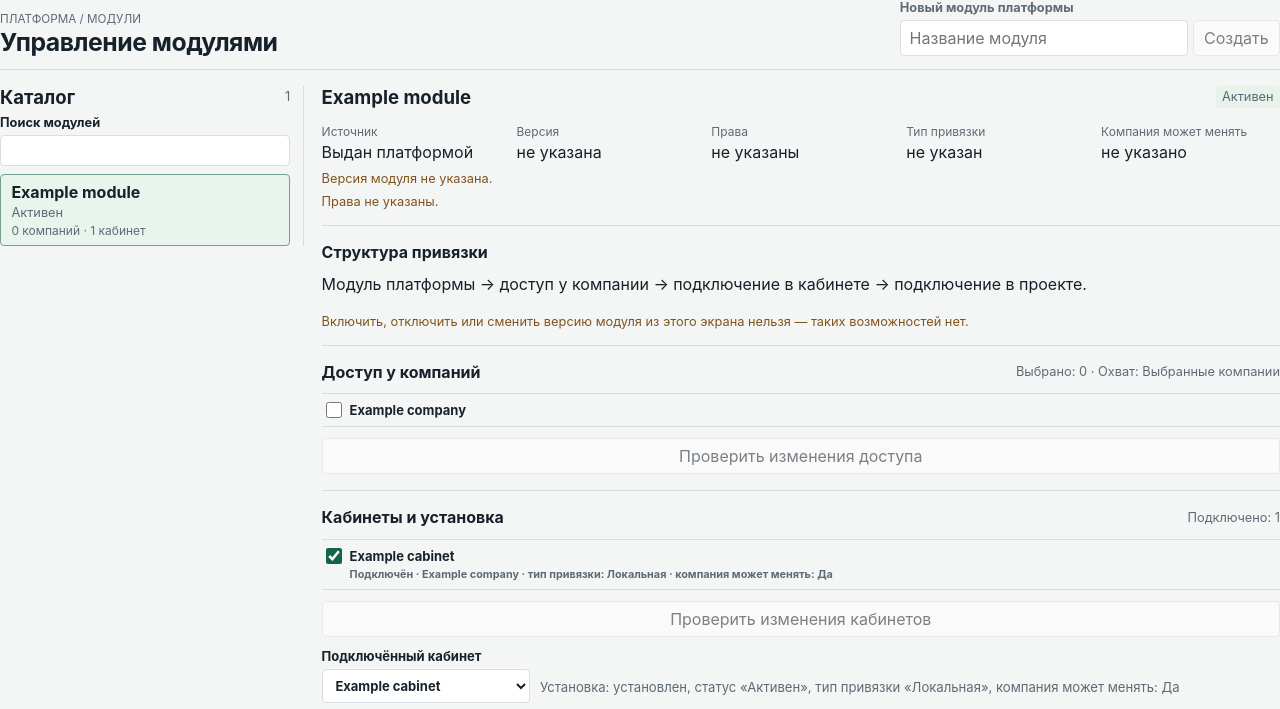
module binding owner workflow › keeps the confirmed change dialog open on API failure and offers retry
Later steps or results of the test are not shown.
Click the checkbox labelled "Example company". click: (334, 410)
box: x1=326 y1=402 x2=342 y2=418
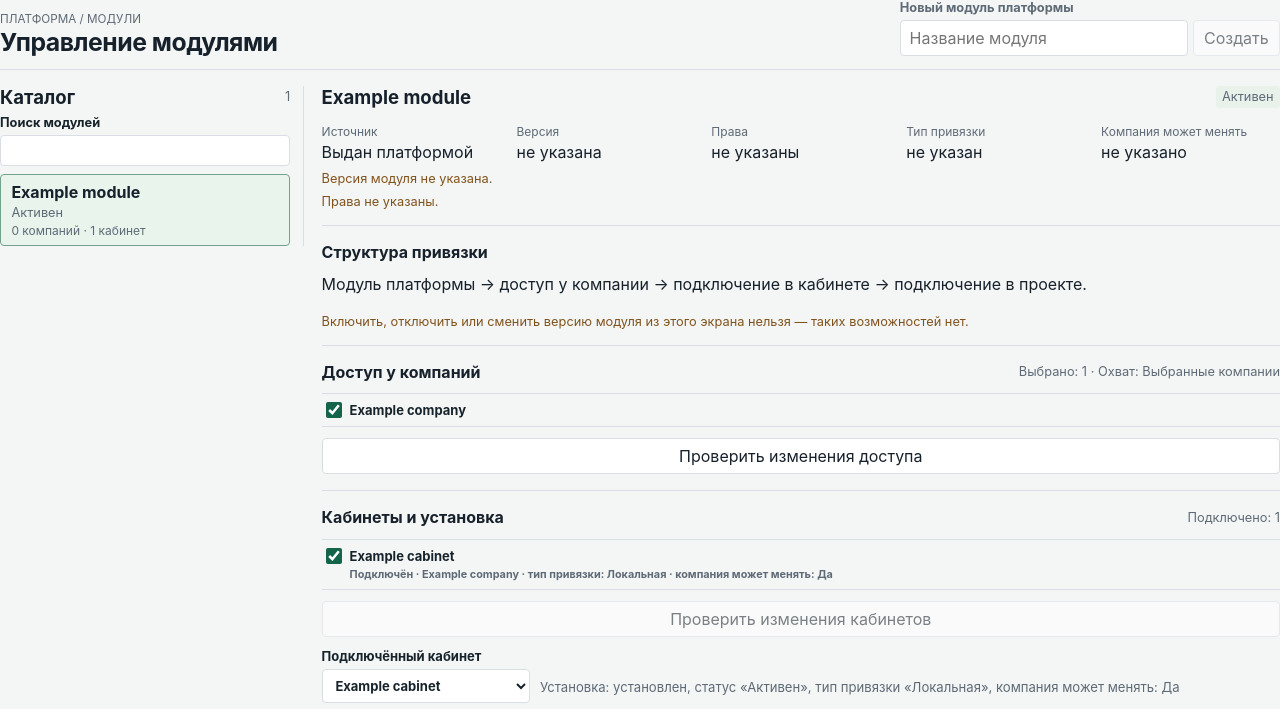
Click the button "Проверить изменения доступа". click: (801, 456)
box: x1=322 y1=438 x2=1279 y2=474
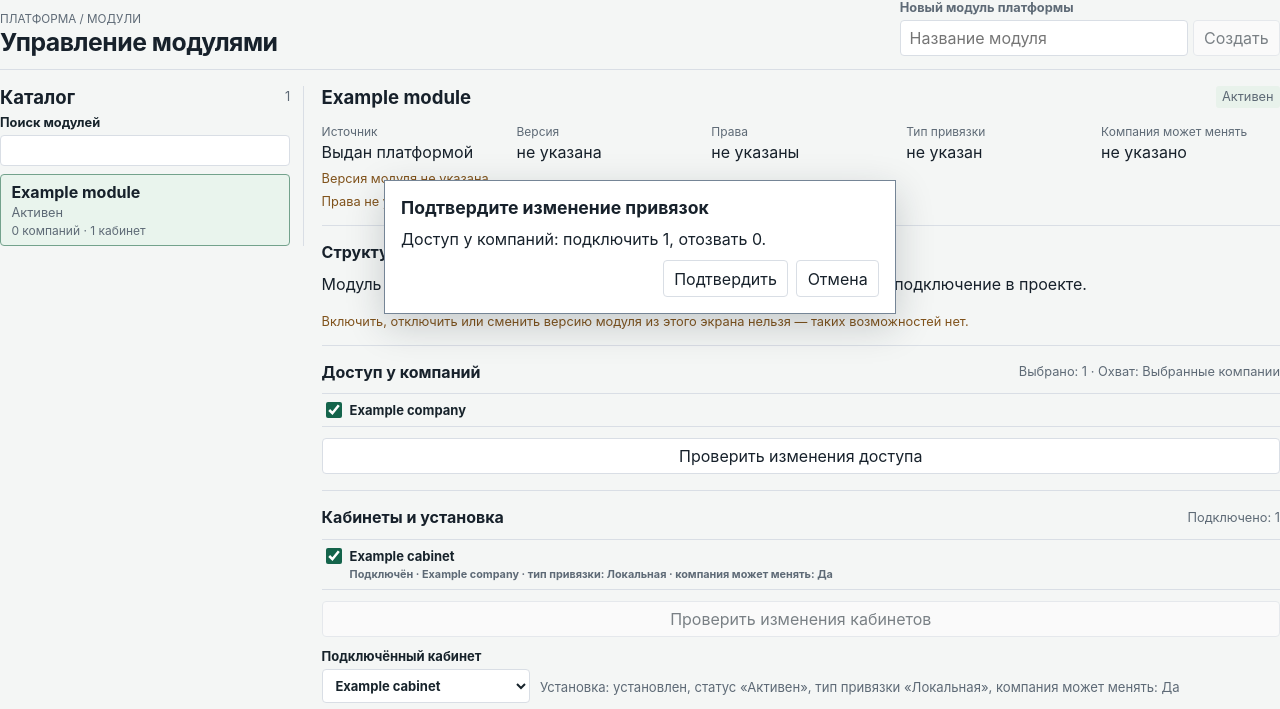
Click the button "Подтвердить". click: (726, 279)
box: x1=663 y1=260 x2=788 y2=297
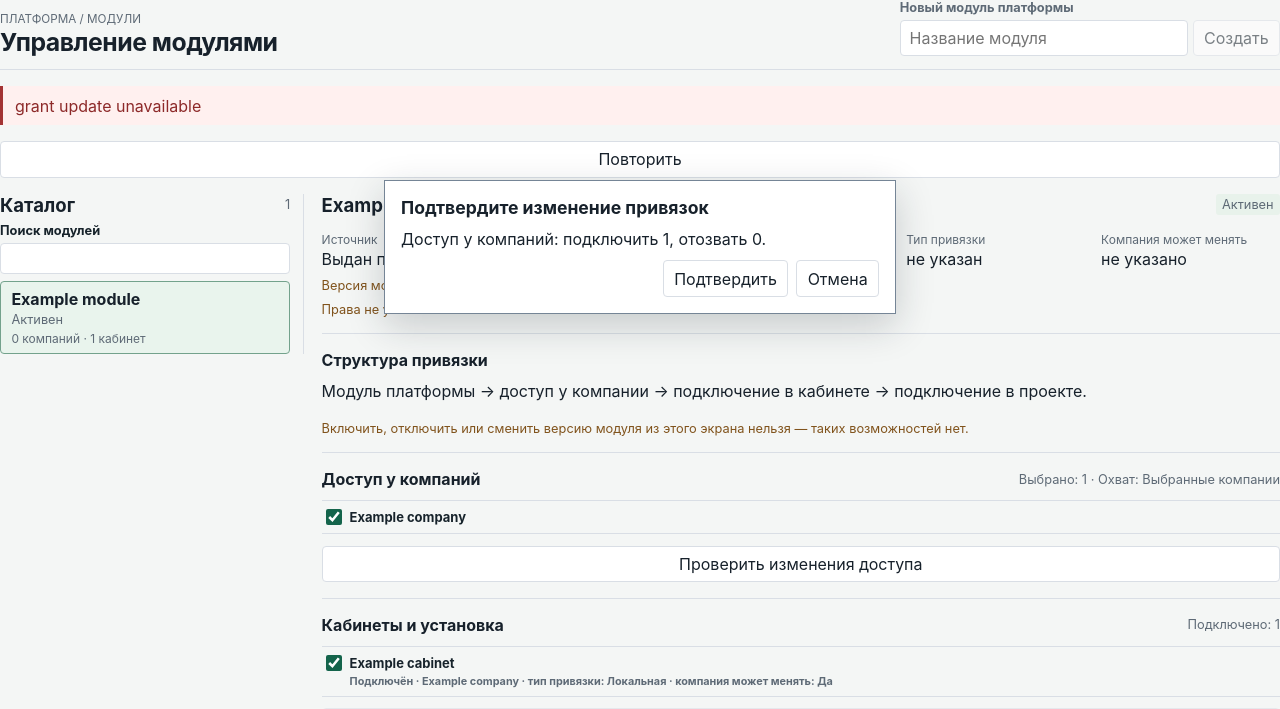
Now the dialog is shown, box x1=384 y1=180 x2=896 y2=314
Click the button "Повторить". click: (640, 159)
box: x1=0 y1=141 x2=1279 y2=178
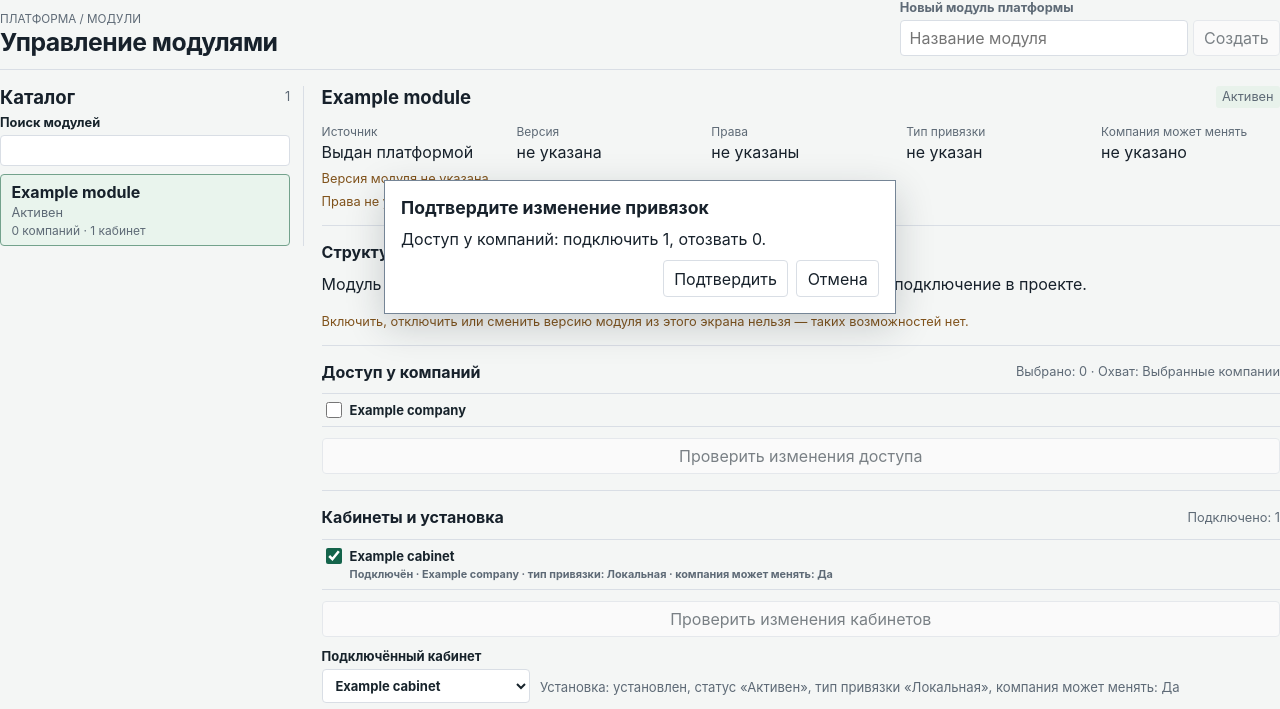
Now the dialog is shown, box x1=384 y1=180 x2=896 y2=314
